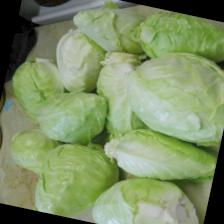cabbage: (111, 39, 224, 148), (98, 119, 220, 192), (29, 135, 123, 224), (125, 2, 224, 74), (88, 166, 207, 224), (2, 50, 75, 131), (29, 81, 111, 149), (4, 122, 69, 179)
